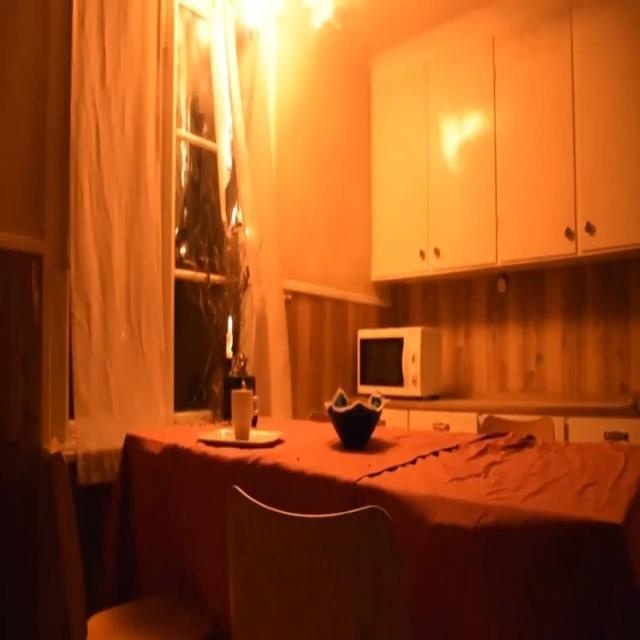fire: (163, 0, 353, 167)
